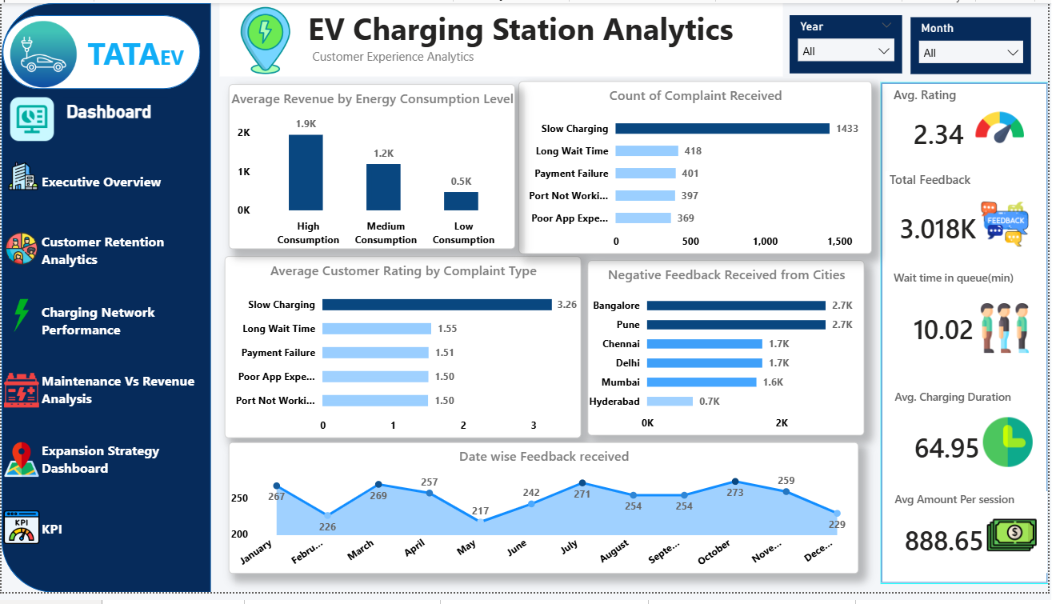

What the dashboard file says about the page in this screenshot:
{"tool":"powerbi","page":{"name":"Customer Experience Analytics","canvas":[1280,720],"ordinal":3},"visuals":[{"type":"shape","box":[1074.6,96.3,205.3,613.5],"z":0},{"type":"group","id":"g1","title":"Group 2","box":[272.2,95.4,791.8,602.4],"z":1000},{"type":"group","id":"g2","title":"Group 4","box":[266.6,0,688.5,89.3],"z":2000},{"type":"textbox","box":[266.6,0,688.5,89.3],"z":2000,"group":"g2"},{"type":"image","box":[269.4,3.7,107.4,84.4],"z":3000,"group":"g2"},{"type":"cardVisual","title":"Total Feedback  ","fields":{"Data":["CountNonNull(feedback.feedback_id)"]},"box":[1081.2,205.3,180,116.6],"z":3000},{"type":"shape","box":[0,0,256,720.7],"z":3500,"group":"g3"},{"type":"shape","box":[0.9,14.8,241.7,90.2],"z":3750,"group":"g3"},{"type":"cardVisual","title":"Avg. Rating ","fields":{"Data":["Avg(feedback.rating)"]},"box":[1086.3,101.4,171.1,92.5],"z":4000},{"type":"pageNavigator","box":[49.4,182.5,205.8,495.4],"z":4000,"group":"g3"},{"type":"cardVisual","title":"Wait time in queue(min)  ","fields":{"Data":["Avg(charging_sessions.wait_time_minutes)"]},"box":[1086.3,327,171.1,124.2],"z":5000},{"type":"image","box":[0,115.3,74.1,53.5],"z":6000,"group":"g3"},{"type":"cardVisual","title":"Avg. Charging Duration ","fields":{"Data":["Avg(charging_sessions.duration_minutes)"]},"box":[1087.6,472.6,178.7,122.7],"z":6000},{"type":"cardVisual","title":"Avg Amount Per session ","fields":{"Data":["Avg(charging_sessions.amount_paid)"]},"box":[1087.6,596.8,192.4,100],"z":7000},{"type":"group","id":"g3","title":"Group 3","box":[0,0,256,720.7],"z":8000},{"type":"textbox","box":[74.1,115.3,129,48],"z":8000,"group":"g3"},{"type":"barChart","title":"Average Customer Rating by Complaint Type","fields":{"Category":["feedback.complaint_type"],"Y":["Avg(feedback.rating)"]},"box":[272.2,309.9,436,222],"z":8500,"group":"g4"},{"type":"slicer","fields":{"Values":["Date Table.Date.Variation.Date Hierarchy.Year"]},"box":[964.2,15.2,137.7,71],"z":9000},{"type":"slicer","fields":{"Values":["Date Table.Date.Variation.Date Hierarchy.Month"]},"box":[1111.7,16.6,147.5,69.6],"z":10000},{"type":"image","box":[1186.1,122.7,68.2,59.1],"z":11000},{"type":"image","box":[4.1,193.5,45.3,35.7],"z":12000,"group":"g3"},{"type":"image","box":[1195.2,239.3,63.6,60.6],"z":12000},{"type":"image","box":[1195.2,366.6,63.6,60.6],"z":13000},{"type":"image","box":[0,278.6,49.4,42.5],"z":14000,"group":"g3"},{"type":"image","box":[1198.2,505.9,63.6,60.6],"z":14000},{"type":"textbox","box":[99.8,30.5,129.4,59.6],"z":14500,"group":"g3"},{"type":"image","box":[1202.7,619.6,63.6,60.6],"z":15000},{"type":"image","box":[2.7,20.3,97,83.4],"z":15500,"group":"g3"},{"type":"barChart","title":"Negative Feedback Received from Cities","fields":{"Category":["stations.city"],"Y":["CountNonNull(feedback.feedback_id)"]},"box":[716.3,314,338.4,214],"z":16000,"group":"g4"},{"type":"image","box":[0,360.9,49.4,42.5],"z":16000,"group":"g3"},{"type":"group","id":"g4","title":"Group 1","box":[272.2,95.4,791.8,602.4],"z":16001,"group":"g1"},{"type":"barChart","title":"Count of Complaint Received ","fields":{"Category":["feedback.complaint_type"],"Y":["CountNonNull(feedback.feedback_id)"]},"box":[632,95.4,432,211.3],"z":16125,"group":"g4"},{"type":"areaChart","title":"Date wise Feedback received","fields":{"Category":["Date Table.Date.Variation.Date Hierarchy.Year","Date Table.Date.Variation.Date Hierarchy.Quarter","Date Table.Date.Variation.Date Hierarchy.Month"],"Y":["CountNonNull(feedback.feedback_id)"]},"box":[277.6,537.3,770.4,160.5],"z":16187,"group":"g4"},{"type":"columnChart","title":"Average Revenue by Energy Consumption Level","fields":{"Category":["charging_sessions.Energy Consumption"],"Y":["Avg(charging_sessions.amount_paid)"]},"box":[277.6,98.6,350.4,202],"z":16250,"group":"g4"},{"type":"image","box":[0,451.5,49.4,43.9],"z":19000,"group":"g3"},{"type":"image","box":[0,536.5,49.4,42.5],"z":20000,"group":"g3"},{"type":"image","box":[0,618.9,49.4,43.9],"z":21000,"group":"g3"}]}

Visuals, with their boxes on the page's 1280x720 design canvas (x1, y1, x2, y2). These are canvas units, not pixel positions in the 1052x605 screenshot, which may show the page scaled, cropped or inside an application window:
shape: (1075,96,1280,710)
"Group 2" group: (272,95,1064,698)
"Group 4" group: (267,0,955,89)
textbox: (267,0,955,89)
image: (269,4,377,88)
"Total Feedback  " cardVisual: (1081,205,1261,322)
shape: (0,0,256,721)
shape: (1,15,243,105)
"Avg. Rating " cardVisual: (1086,101,1257,194)
pageNavigator: (49,182,255,678)
"Wait time in queue(min)  " cardVisual: (1086,327,1257,451)
image: (0,115,74,169)
"Avg. Charging Duration " cardVisual: (1088,473,1266,595)
"Avg Amount Per session " cardVisual: (1088,597,1280,697)
"Group 3" group: (0,0,256,721)
textbox: (74,115,203,163)
"Average Customer Rating by Complaint Type" barChart: (272,310,708,532)
slicer - Date Table.Date.Variation.Date Hierarchy.Year: (964,15,1102,86)
slicer - Date Table.Date.Variation.Date Hierarchy.Month: (1112,17,1259,86)
image: (1186,123,1254,182)
image: (4,194,49,229)
image: (1195,239,1259,300)
image: (1195,367,1259,427)
image: (0,279,49,321)
image: (1198,506,1262,566)
textbox: (100,30,229,90)
image: (1203,620,1266,680)
image: (3,20,100,104)
"Negative Feedback Received from Cities" barChart: (716,314,1055,528)
image: (0,361,49,403)
"Group 1" group: (272,95,1064,698)
"Count of Complaint Received " barChart: (632,95,1064,307)
"Date wise Feedback received" areaChart: (278,537,1048,698)
"Average Revenue by Energy Consumption Level" columnChart: (278,99,628,301)
image: (0,452,49,495)
image: (0,536,49,579)
image: (0,619,49,663)
